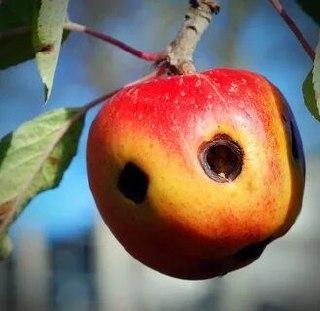Apple: (86, 72, 304, 280)
